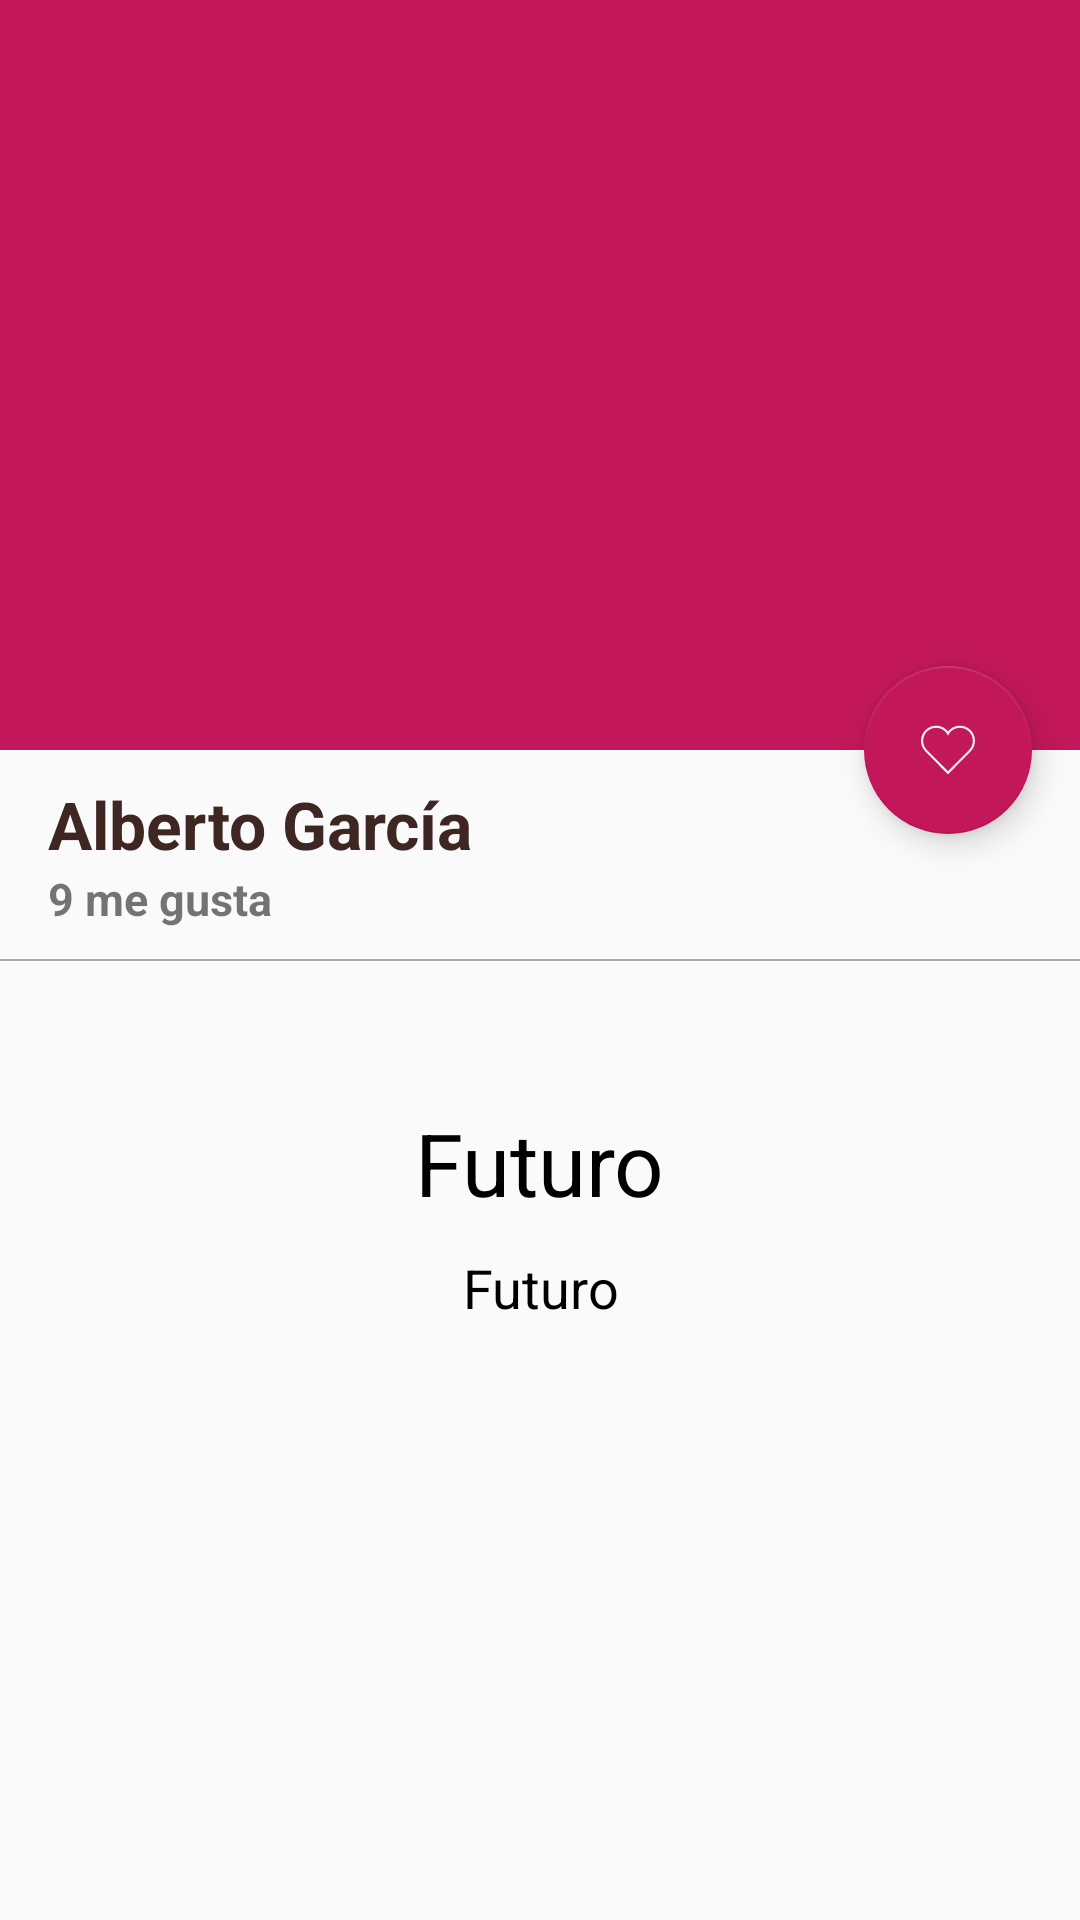

Named icons in this screenshot (1080px×1920px) and their centers, point (x, y):
heart profile details: point (948, 750)
